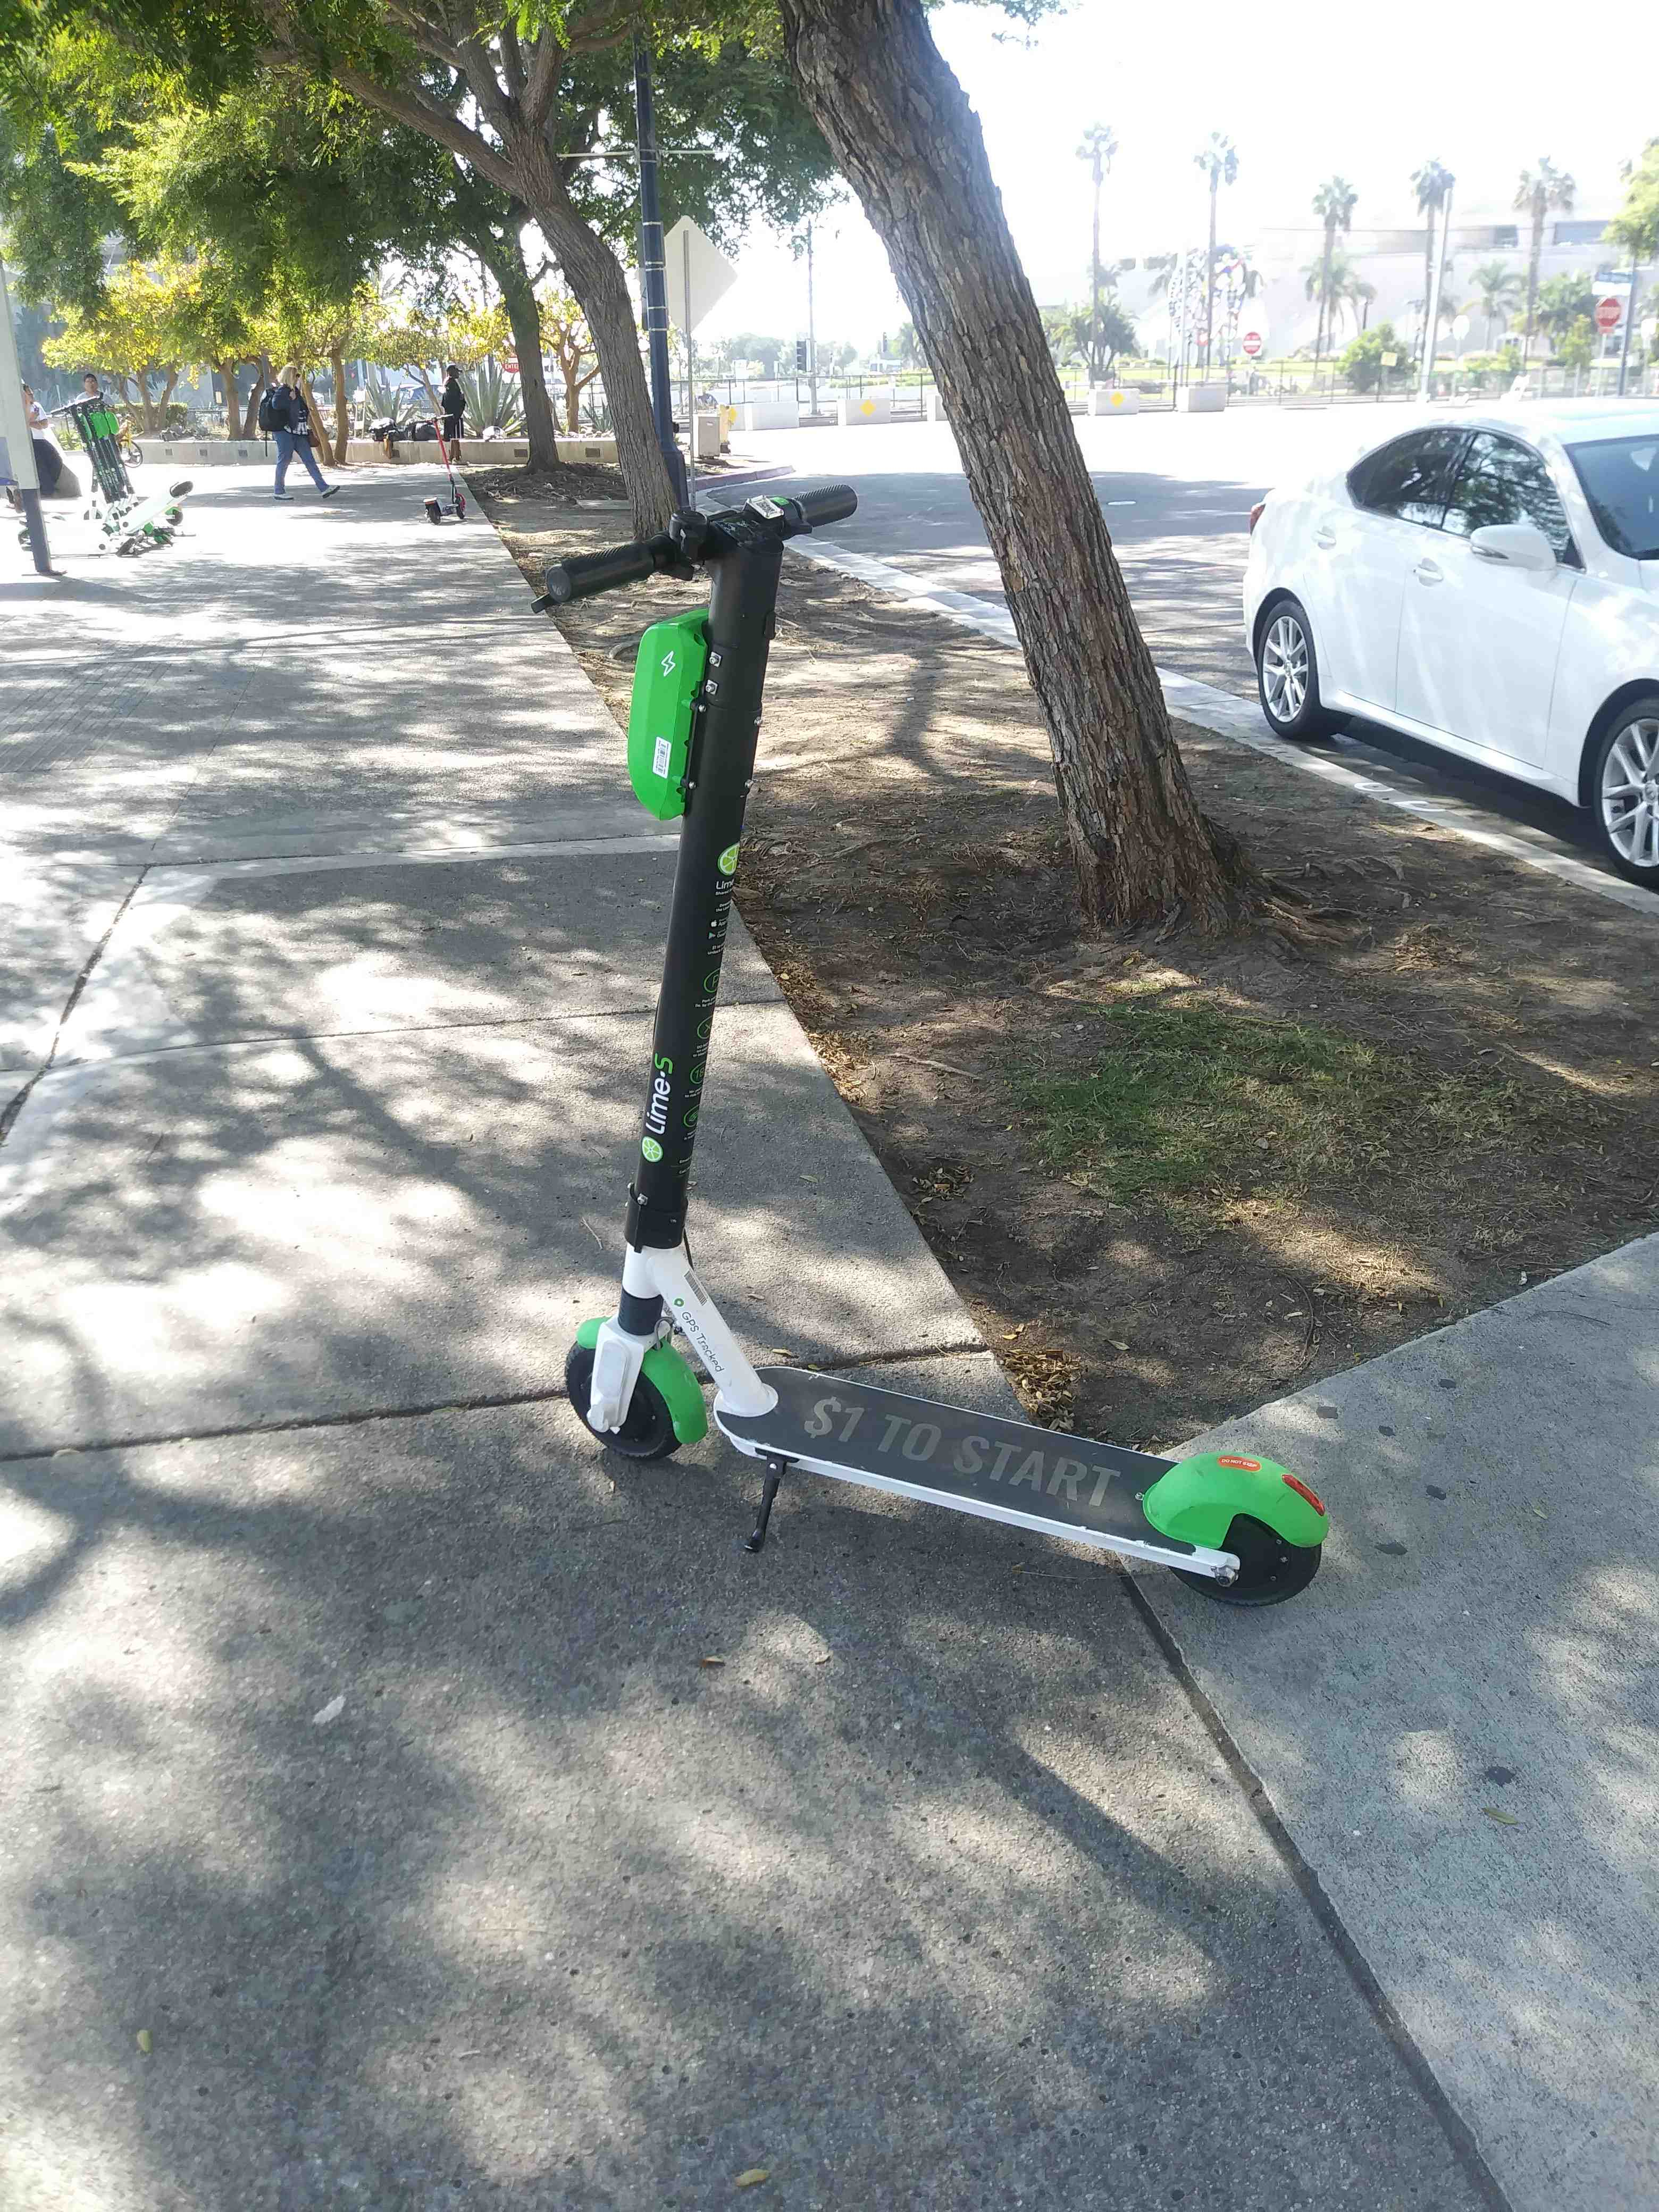scooter: (498, 481, 1358, 1653)
